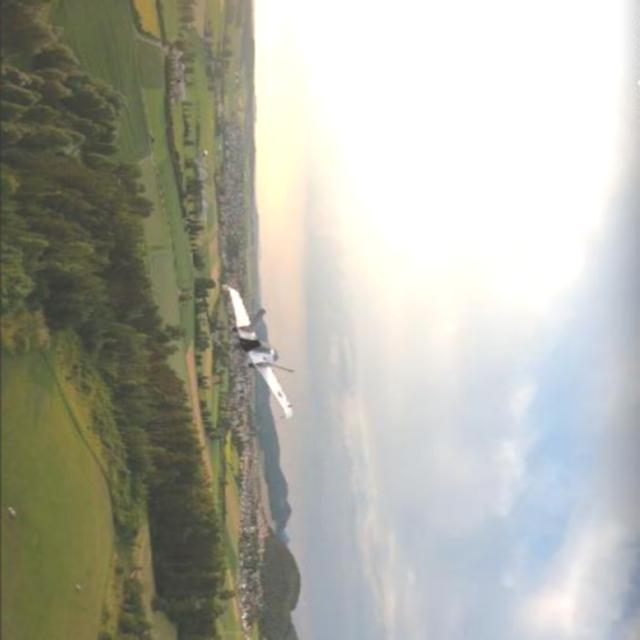plane: (220, 284, 297, 422)
